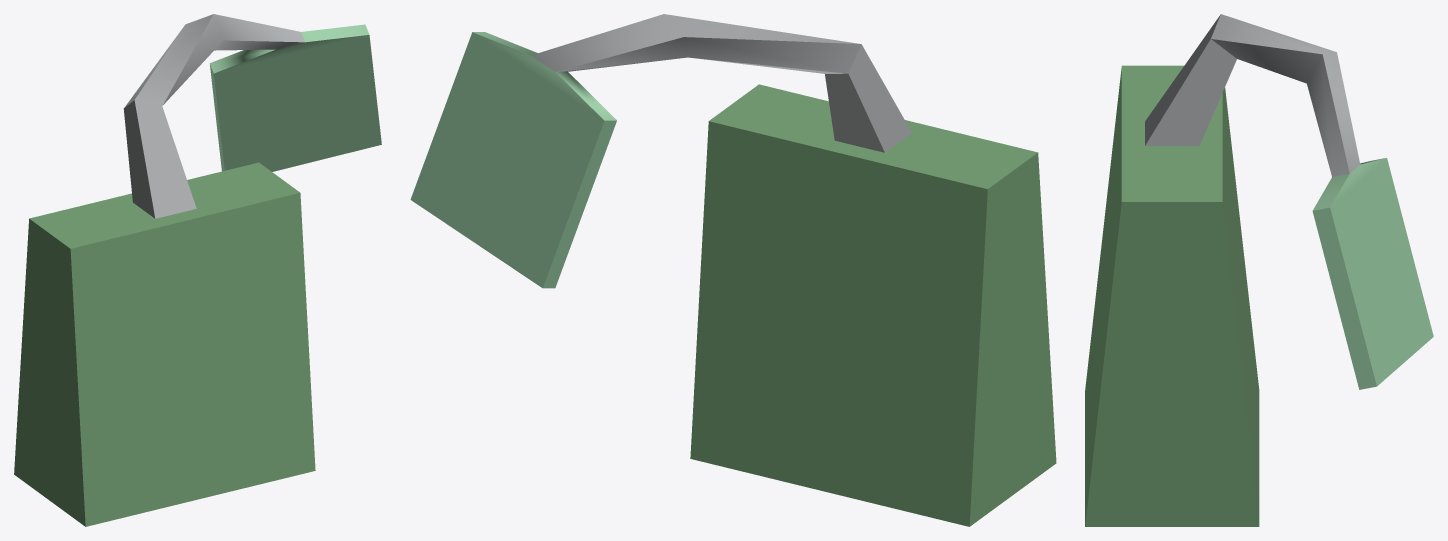
File: tea_bag.fbx
3 renders of one model, left to right at view 1: azimuth 30°, elevation 25°; view 2: azimuth 150°, elevation 25°; view 3: azimuth 270°, elevation 25°, orthographic. The views are drawn at different scales.
Parts seen in each view (by area): view 1: tea_bag; view 2: tea_bag; view 3: tea_bag.
Part boxes in pixels (bbox=[...]): tea_bag: bbox=[14, 14, 381, 526]; tea_bag: bbox=[410, 14, 1056, 526]; tea_bag: bbox=[1085, 14, 1433, 526].
Bounding box in the file's own units: 0.5744 × 0.5147 × 0.346.
